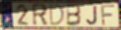2: (16, 4, 30, 27)
B: (66, 3, 83, 27)
D: (49, 3, 66, 27)
F: (101, 4, 117, 27)
J: (86, 5, 99, 26)
R: (31, 3, 49, 27)
